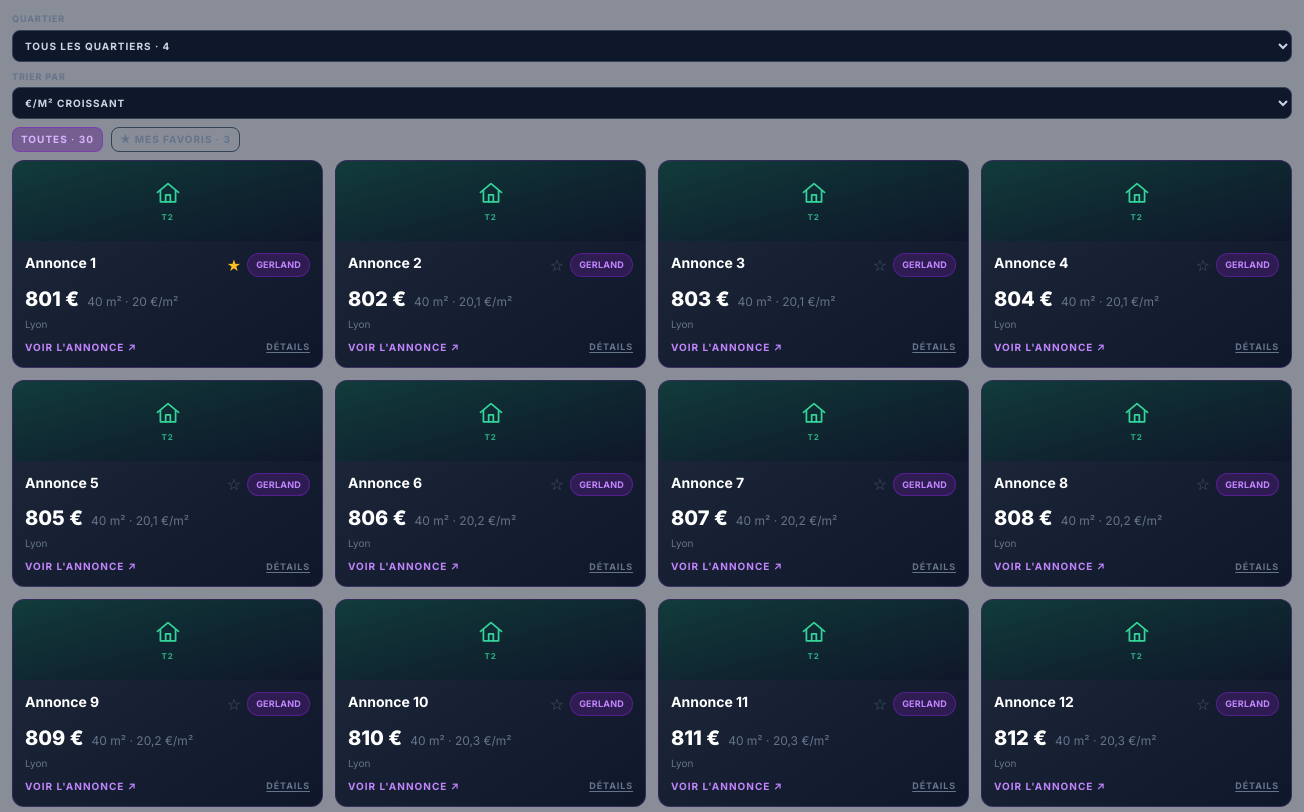
AnnoncesList › filtre "Mes favoris" (ORA-132) › shows favorites located beyond server page 1 all together on page 1 (ORA-183)
What coordinates should you click on to do the following:
click the tab "★ Mes favoris · 3"
I would click on:
 (176, 140)
Its box is [111,127,240,152].
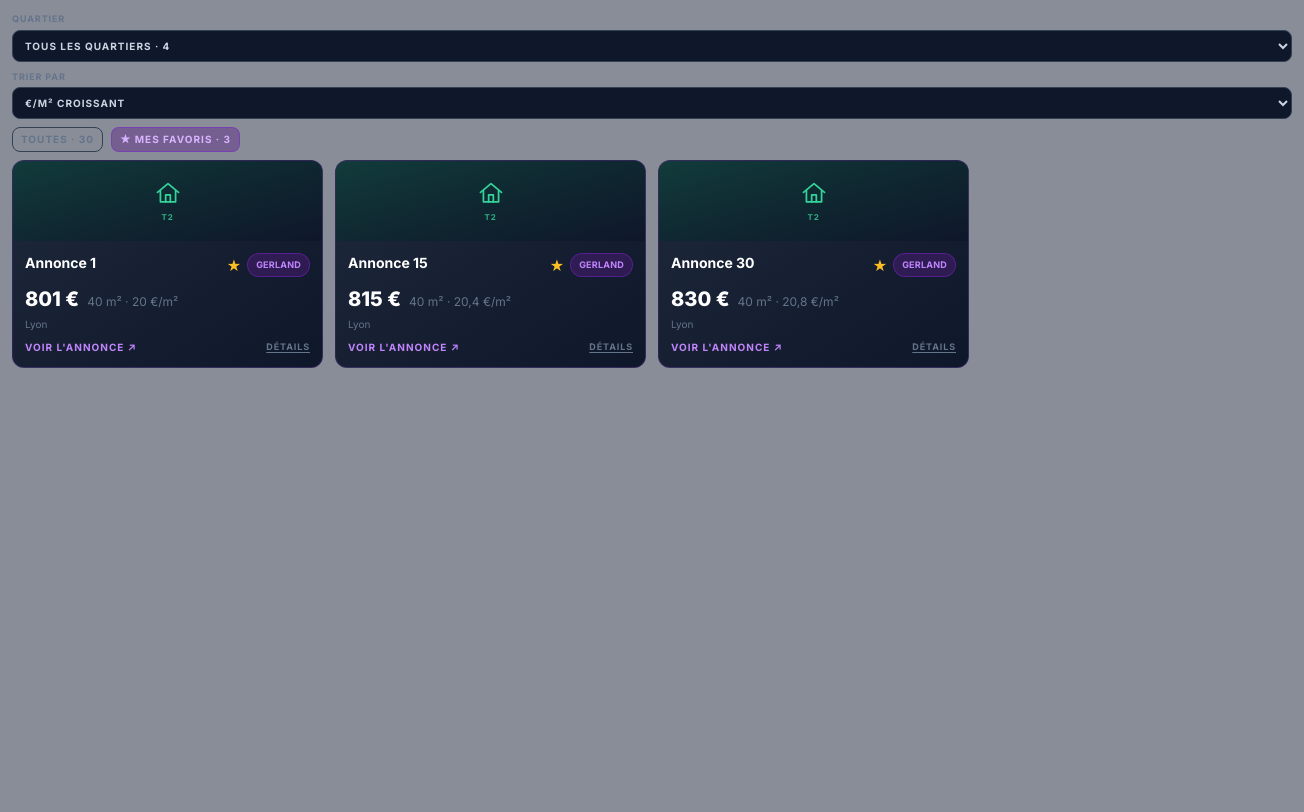
Expected: the text "Annonce 1" is shown, [25,253,96,273]
Expected: the text "Annonce 15" is shown, [348,253,428,273]
Expected: the text "Annonce 30" is shown, [671,253,755,273]
